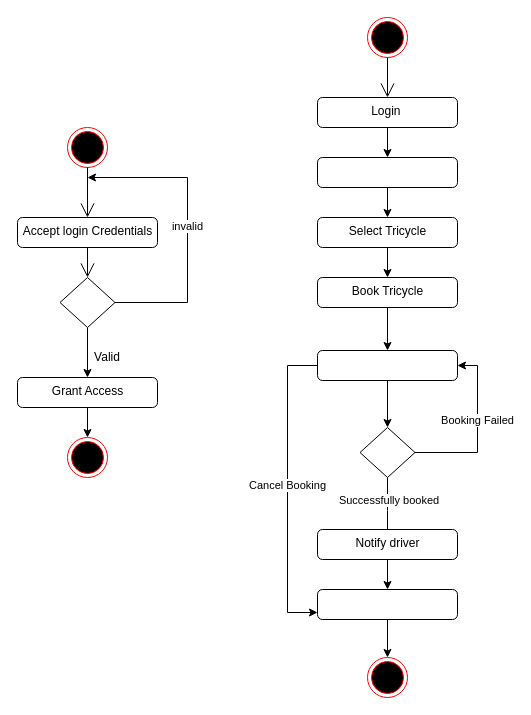
The diagram is 531 pixels wide and 715 high, and some of its shapes have lost their labels. The box of each missing label's shape, as (x1, y1, x2, y2) in pixels:
List Available Tricycles: (316, 156, 458, 188)
Logout: (316, 588, 458, 620)
Save to Table: (316, 350, 458, 380)
